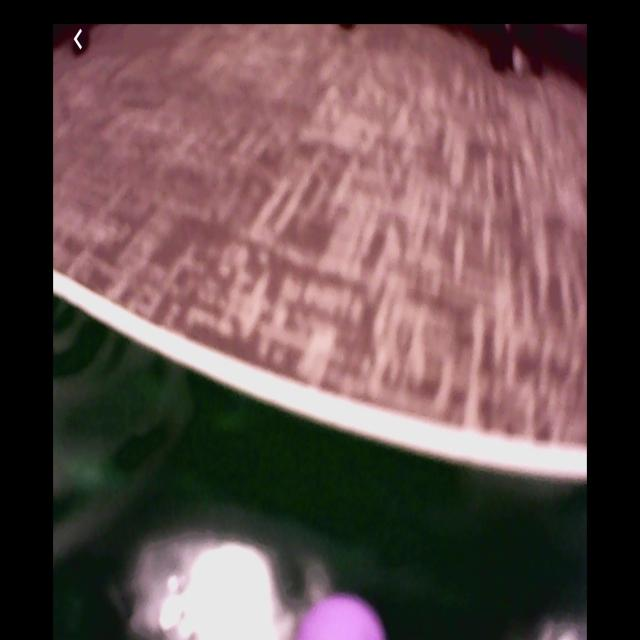ball: (296, 594, 390, 640)
